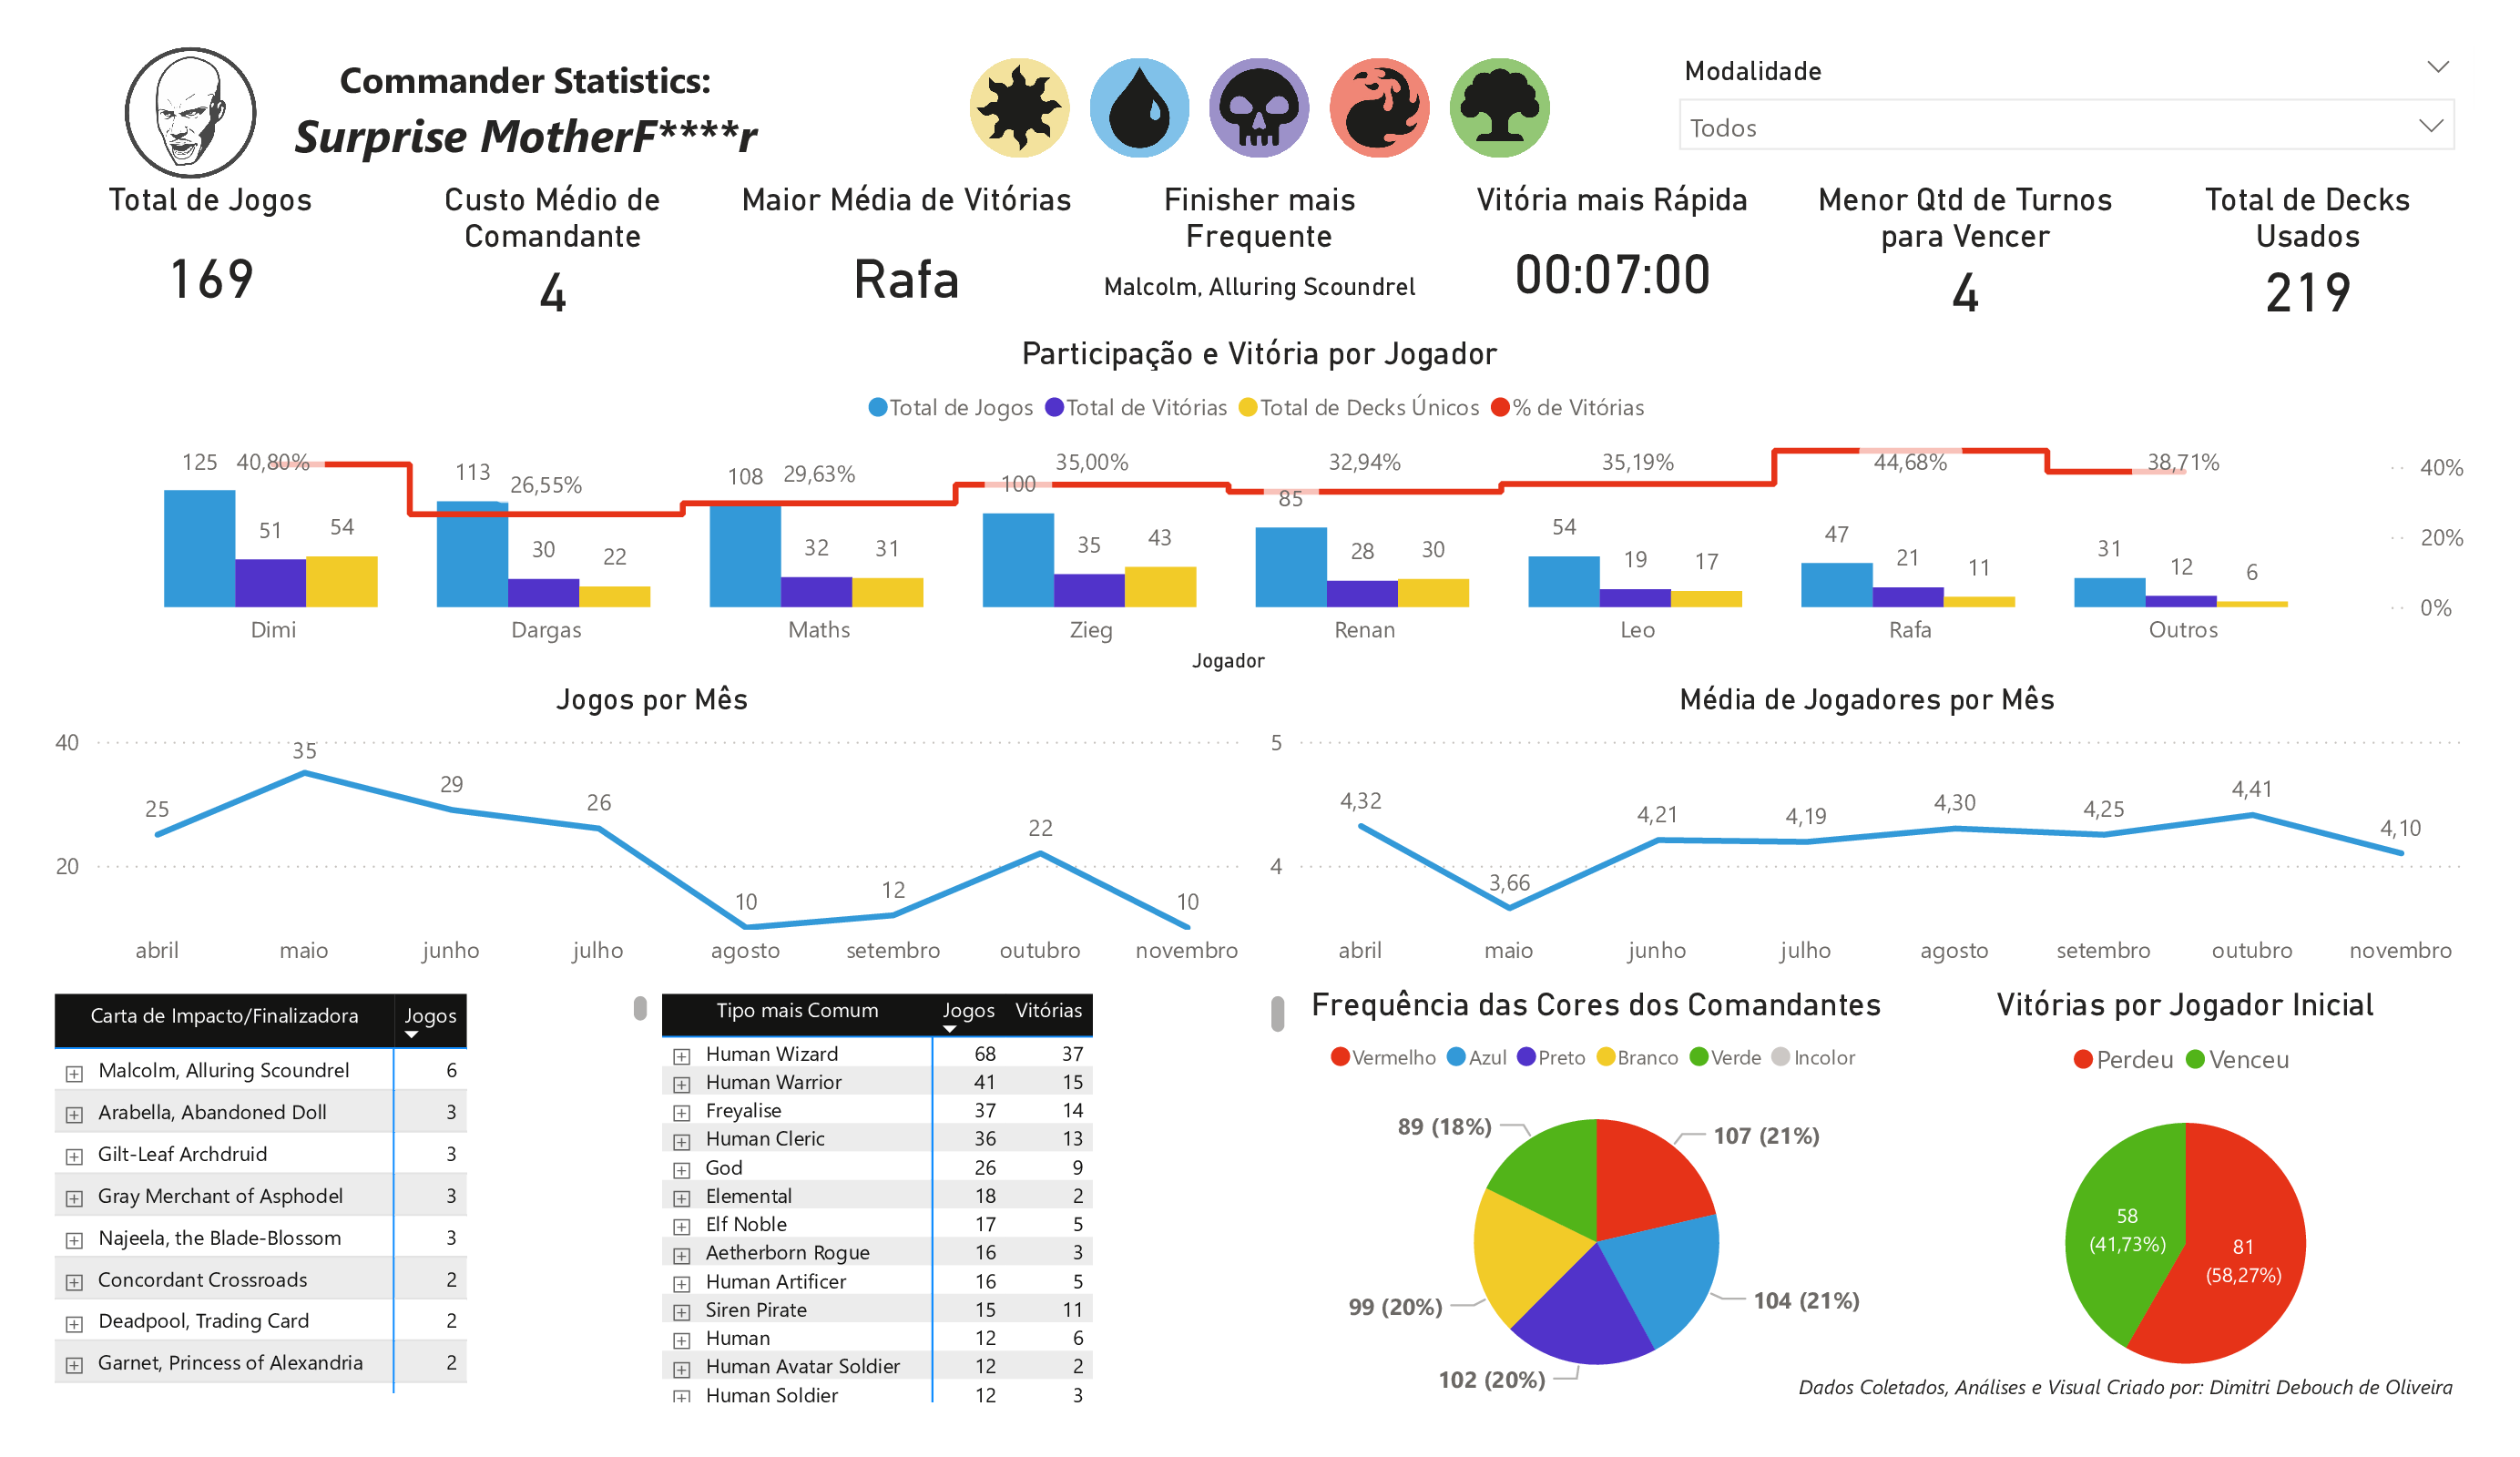

The dashboard page shown, as its layout file describes it:
{"tool":"powerbi","page":{"name":"Visão Geral","canvas":[1280,720],"ordinal":0},"visuals":[{"type":"textbox","box":[76.8,0,352,71.3],"z":0},{"type":"image","box":[428.8,0,422.7,71.3],"z":1000},{"type":"slicer","title":"Modalidade","fields":{"Values":["Jogos.Modo_jogo"]},"box":[851.5,0,428.2,71.3],"z":2000},{"type":"card","title":"Total de Jogos","fields":{"Values":["Count(Participação.id_jogo)"]},"box":[0,71.3,174.5,81.1],"z":3000},{"type":"card","title":"Maior Média de Vitórias","fields":{"Values":["Participação.Player best winrate"]},"box":[360.6,71.3,186.1,81.1],"z":4000},{"type":"card","title":"Menor Qtd de Turnos para Vencer","fields":{"Values":["Participação.Menor Turno para Vitória"]},"box":[919,71.3,186.1,81.1],"z":5000},{"type":"card","title":"Vitória mais Rápida","fields":{"Values":["Participação.Jogo Mais Rápido"]},"box":[732.9,71.3,186.1,81.1],"z":6000},{"type":"card","title":"Total de Decks Usados","fields":{"Values":["Count(Deck.deck_name)"]},"box":[1105.2,71.3,175.1,81.1],"z":7000},{"type":"lineChart","title":"Jogos por Mês","fields":{"Category":["Jogos.Data.Variation.Hierarquia de datas.Mês"],"Y":["Count(Participação.id_jogo)"]},"box":[0,335.4,640.1,159.7],"z":8000},{"type":"lineClusteredColumnComboChart","title":"Participação e Vitória por Jogador","fields":{"Category":["Jogadores.Nome_jogador"],"Y":["CountNonNull(Participação.id_participação)","CountNonNull(Participação.venceu?)","Count(Participação.id_deck)"],"Y2":["Deck.Winrates"]},"box":[0,152.4,1279.7,183.1],"z":9000},{"type":"image","box":[35.6,0,81.7,71.3],"z":10000},{"type":"card","title":"Finisher mais Frequente","fields":{"Values":["Participação.Finisher Mais Jogado"]},"box":[546.8,71.3,186.1,81.1],"z":11000},{"type":"pivotTable","fields":{"Rows":["Commander_card.name","Commander_card.supertype and type","Commander_card.subtype","Commander_card.rarity","Commander_card.set"],"Values":["Participação.Qtd Uso como Finalizador"]},"box":[0,495.2,322.5,219.9],"z":12000},{"type":"pieChart","title":"Frequência das Cores dos Comandantes","fields":{"Category":["Parametro_cor.Cor"],"Y":["Deck.Quantidade X Cores jogadas"]},"box":[658.6,495.2,317.6,224.8],"z":13000},{"type":"pivotTable","title":"Tipo mais Comum","fields":{"Rows":["Commander_card.subtype","Commander_card.rarity","Commander_card.set","Commander_card.name"],"Values":["Count(Participação.id_jogo)","CountNonNull(Participação.venceu?)"]},"box":[320.1,495.2,338.5,224.8],"z":14000},{"type":"pieChart","title":"Vitórias por Jogador Inicial","fields":{"Category":["Participação.iniciou?","Participação.Venceu? Condicionada"],"Y":["CountNonNull(Participação.id_jogo)"]},"box":[976.2,495.2,304.1,224.8],"z":15000},{"type":"textbox","box":[919,692.4,361.2,27.6],"z":16000},{"type":"card","title":"Custo Médio de Comandante","fields":{"Values":["Commander_card.Mana Média"]},"box":[174.5,71.3,186.1,81.1],"z":17000},{"type":"lineChart","title":"Média de Jogadores por Mês","fields":{"Category":["Jogos.Data.Variation.Hierarquia de datas.Mês"],"Y":["Avg(Jogos.num_jogadores)"]},"box":[640.1,335.4,640.1,159.7],"z":18000}]}

Visuals, with their boxes on the page's 1280x720 design canvas (x1, y1, x2, y2). These are canvas units, not pixel positions in the 2520x1457 screenshot, which may show the page scaled, cropped or inside an application window:
textbox: box=[77, 0, 429, 71]
image: box=[429, 0, 852, 71]
"Modalidade" slicer: box=[852, 0, 1280, 71]
"Total de Jogos" card: box=[0, 71, 174, 152]
"Maior Média de Vitórias" card: box=[361, 71, 547, 152]
"Menor Qtd de Turnos para Vencer" card: box=[919, 71, 1105, 152]
"Vitória mais Rápida" card: box=[733, 71, 919, 152]
"Total de Decks Usados" card: box=[1105, 71, 1280, 152]
"Jogos por Mês" lineChart: box=[0, 335, 640, 495]
"Participação e Vitória por Jogador" lineClusteredColumnComboChart: box=[0, 152, 1280, 336]
image: box=[36, 0, 117, 71]
"Finisher mais Frequente" card: box=[547, 71, 733, 152]
pivotTable - Commander_card.name x Commander_card.supertype and type: box=[0, 495, 322, 715]
"Frequência das Cores dos Comandantes" pieChart: box=[659, 495, 976, 720]
"Tipo mais Comum" pivotTable: box=[320, 495, 659, 720]
"Vitórias por Jogador Inicial" pieChart: box=[976, 495, 1280, 720]
textbox: box=[919, 692, 1280, 720]
"Custo Médio de Comandante" card: box=[174, 71, 361, 152]
"Média de Jogadores por Mês" lineChart: box=[640, 335, 1280, 495]
